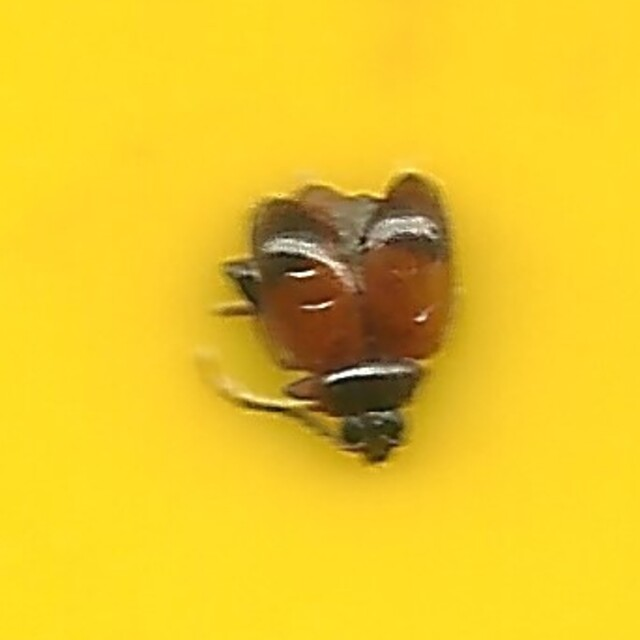Coleoptera: (187, 170, 453, 470)
